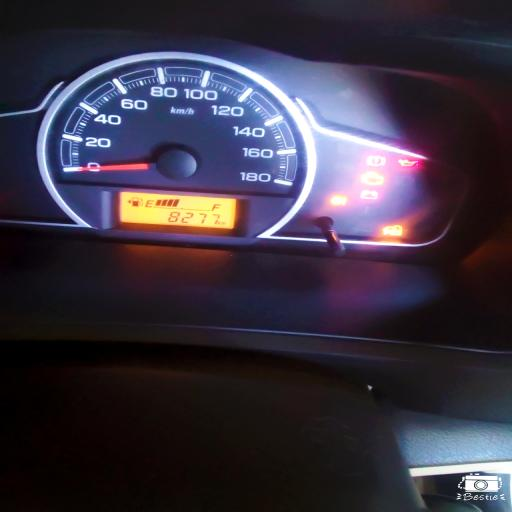brake_system_fault: (367, 154, 387, 168)
car_closed: (382, 224, 404, 237)
check_engine: (361, 172, 385, 186)
oil: (398, 157, 418, 168)
vehicle_charging: (359, 190, 379, 200)
